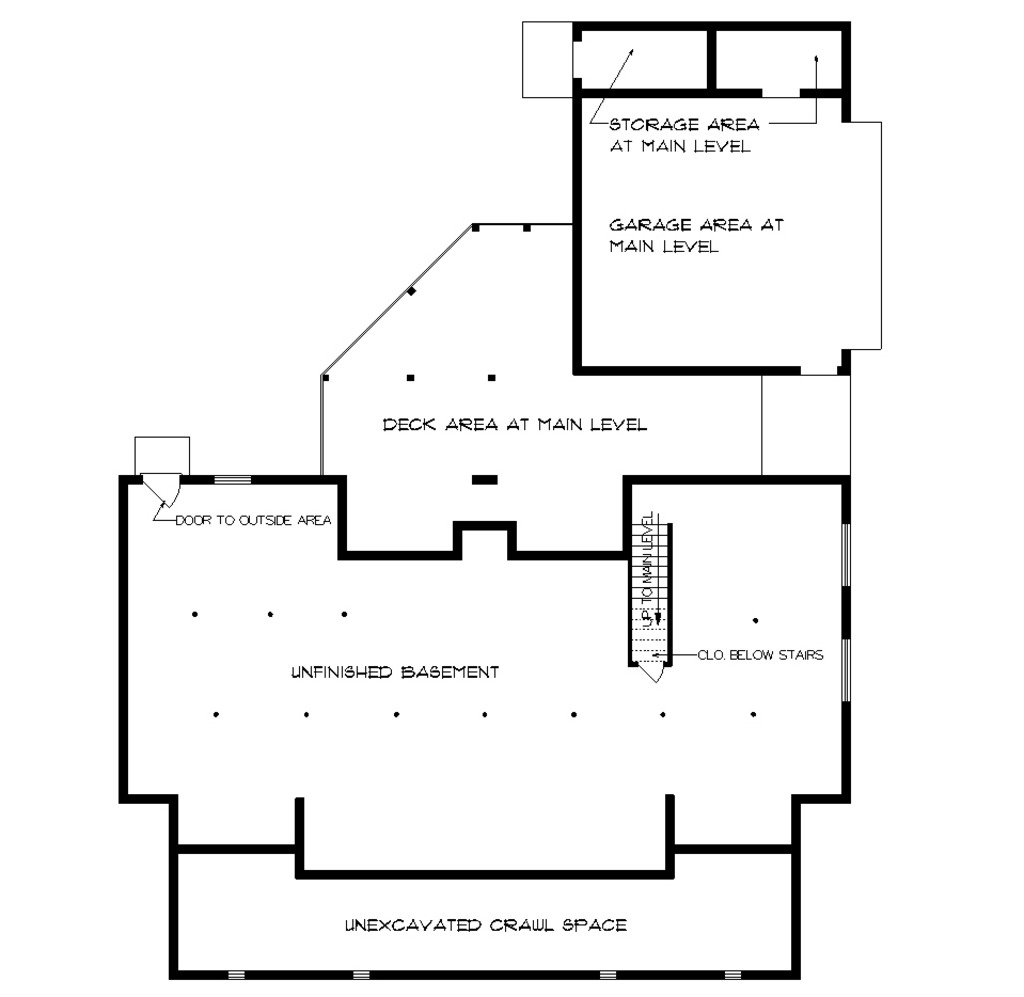door: (139, 473, 184, 509)
stairs: (624, 518, 680, 669)
window: (839, 634, 856, 707), (841, 519, 856, 590)
